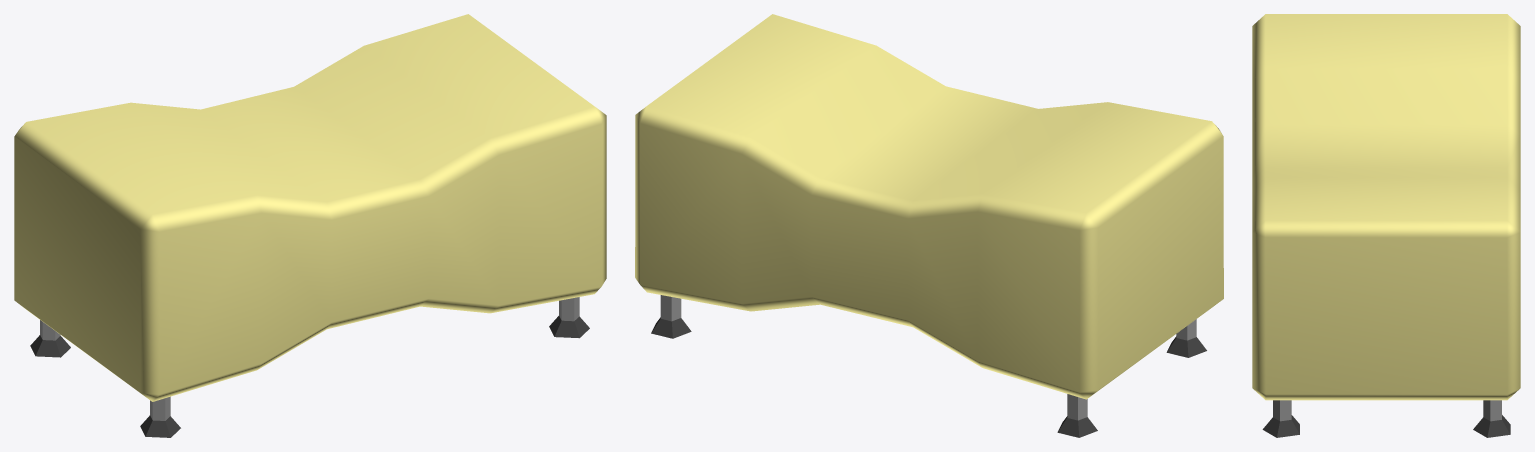
The model's file is ottoman_009.glb.
The picture shows the model from 3 angles, left to right: view 1: azimuth 30°, elevation 25°; view 2: azimuth 150°, elevation 25°; view 3: azimuth 270°, elevation 25°; orthographic projection. The views are drawn at different scales.
Visible parts, largest first — view 1: ottoman_009; view 2: ottoman_009; view 3: ottoman_009.
Part boxes in pixels (x1,y1,x2,y2): ottoman_009: (14, 14, 606, 437); ottoman_009: (635, 14, 1223, 437); ottoman_009: (1252, 14, 1520, 437).
Bounding box in the file's own units: 0.8322 × 0.3864 × 0.4334.
Materials: 1 (1 with a texture image).
